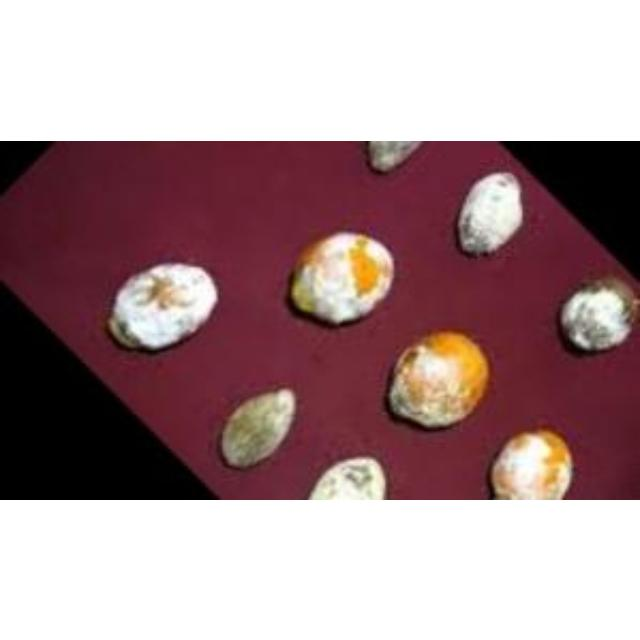damaged: (105, 258, 218, 354), (387, 328, 491, 428), (289, 229, 397, 325), (558, 273, 640, 351), (220, 387, 298, 469), (489, 426, 573, 499), (456, 168, 524, 255), (307, 456, 385, 498), (368, 141, 424, 171)
